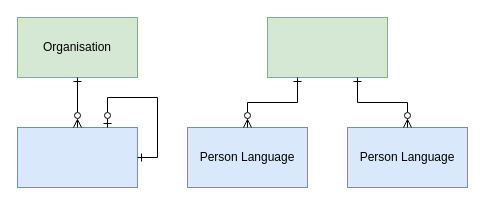
Some shapes in this 485 by 205 pixel diagram are drawn without their labels. The centre of each missing label's shape, as x and y in pixels:
"Organisational Unit" belongs at (x=77, y=157).
"Person" belongs at (x=327, y=47).
